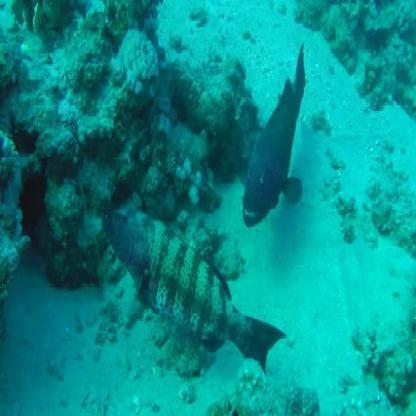Bio: (100, 199, 286, 385), (236, 34, 312, 228)
